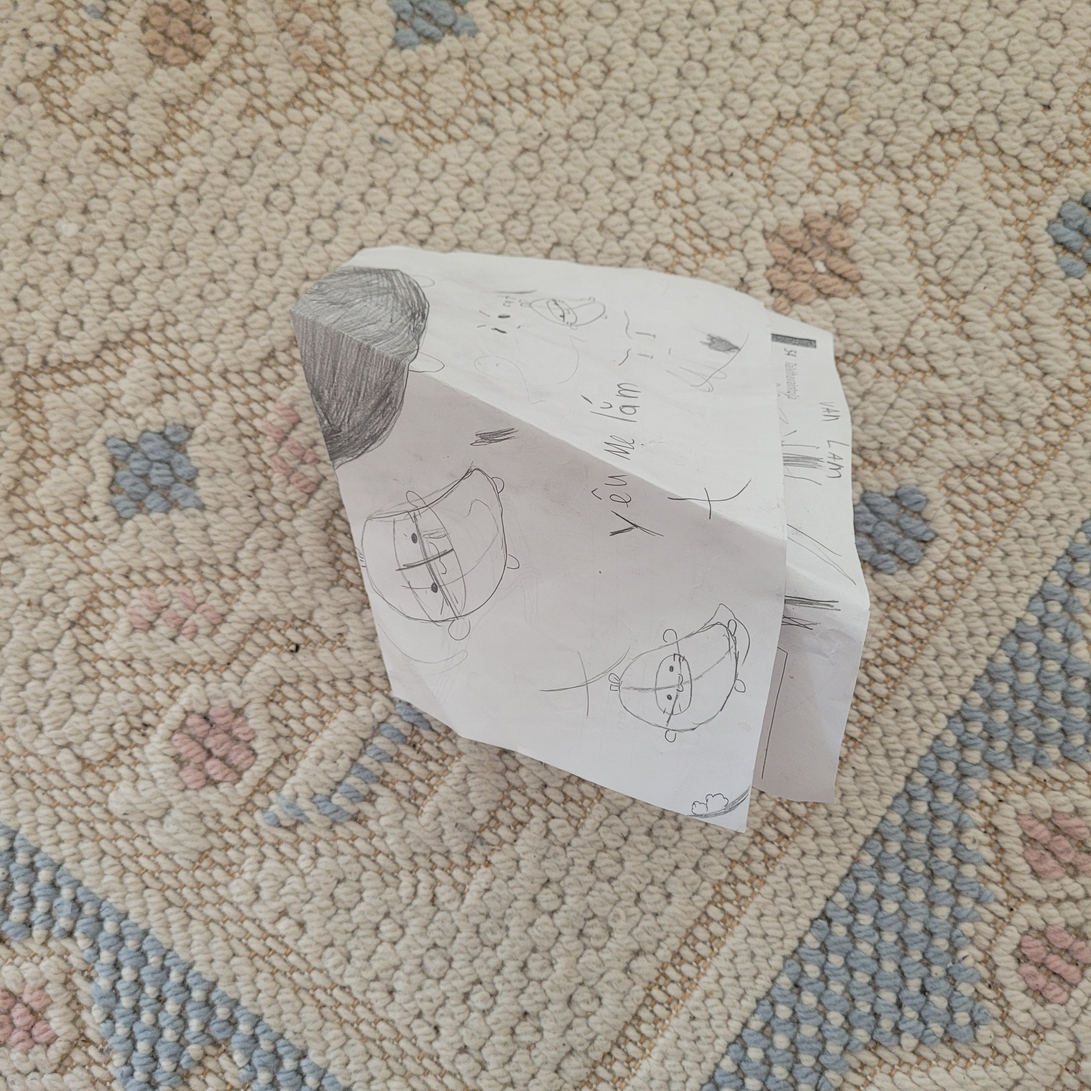paper: (286, 240, 874, 842)
